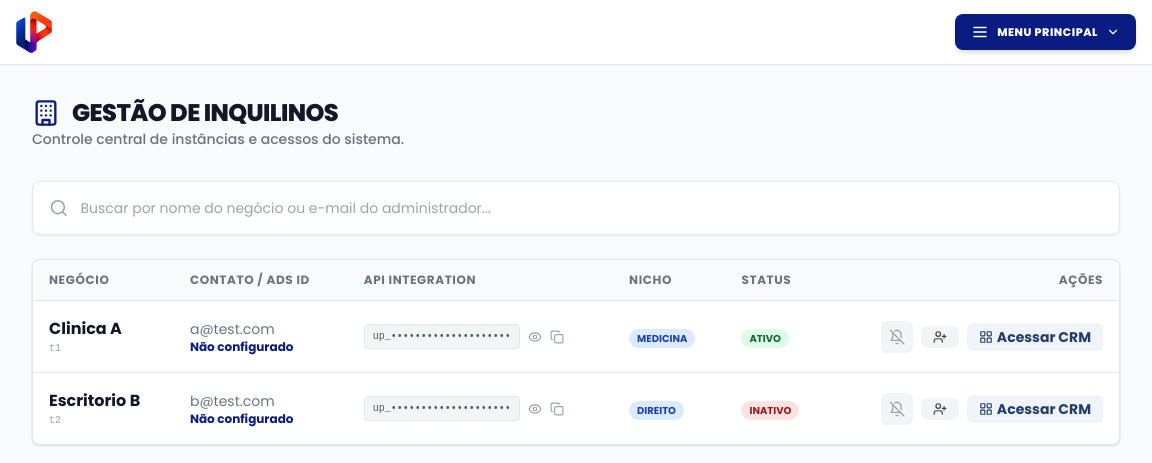
Test: TenantsPage › deve filtrar inquilinos pela busca
In the field with placeholder "Buscar por nome do negócio ou e-mail do administrador...": point(592, 208) left=80, top=198, right=1103, bottom=218, type "Clinica"
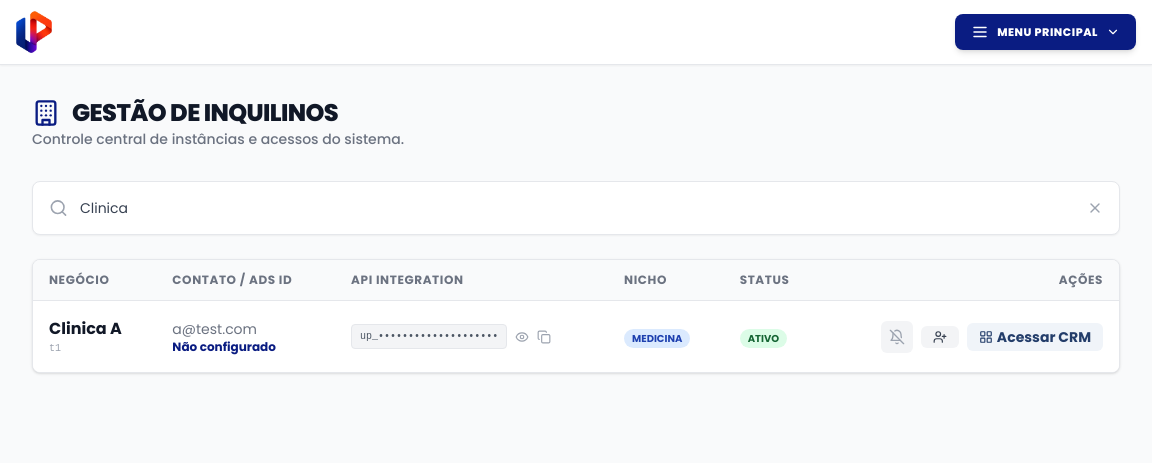
Expected: the text "Clinica A" is shown, left=49, top=317, right=122, bottom=340
Expected: the text "Escritorio B" is gone
